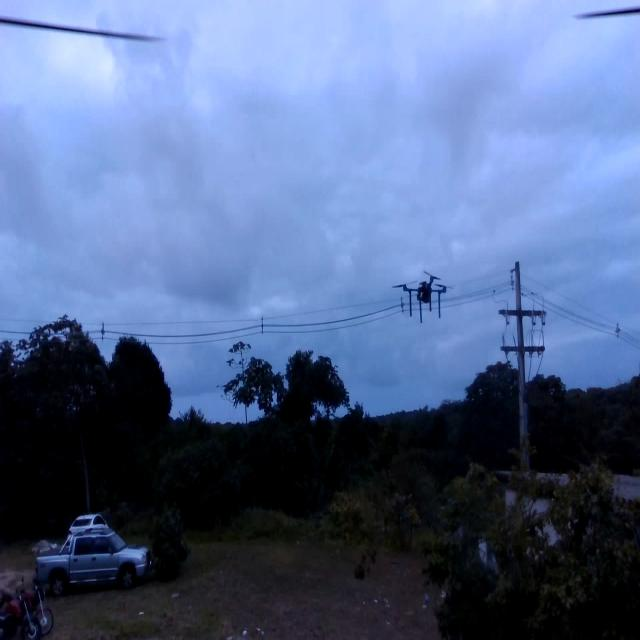-uav-: (389, 261, 453, 333)
